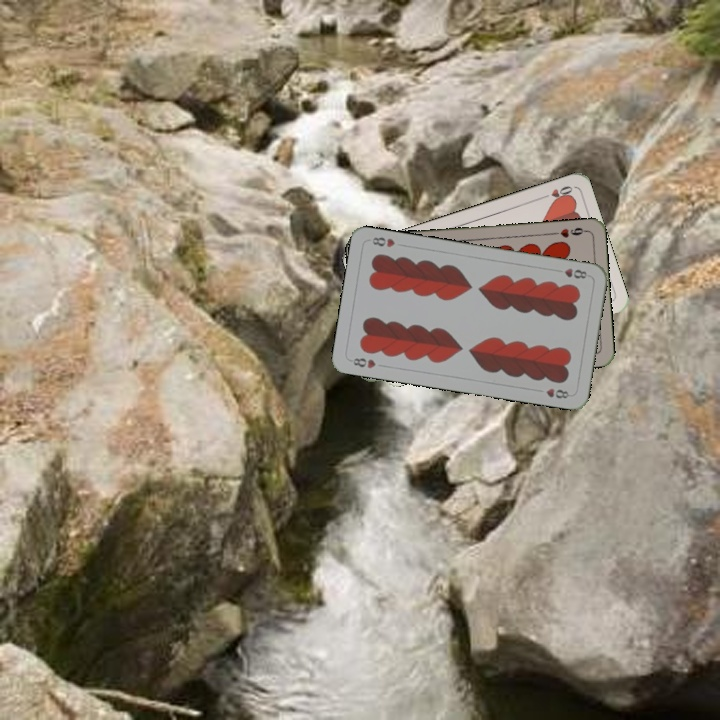H8: (346, 354, 378, 371), (560, 264, 589, 281)
H9: (549, 223, 589, 240)
HO: (536, 182, 575, 203)
